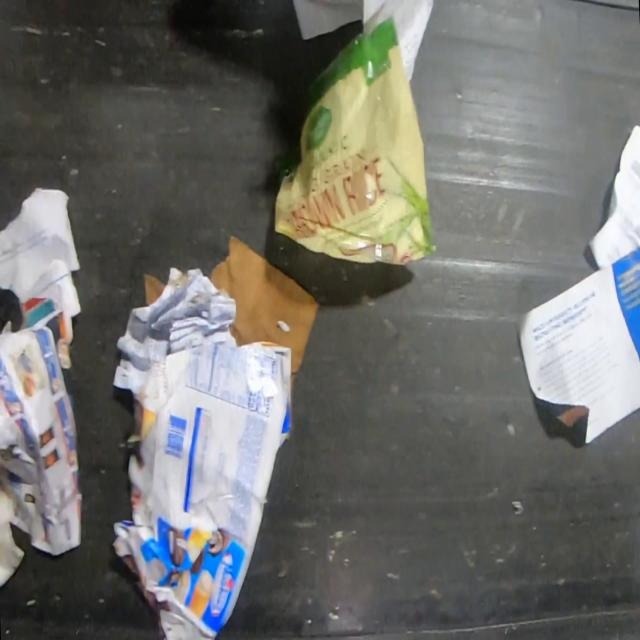cardboard: (114, 339, 292, 640), (211, 237, 320, 374)
soft_plastic: (275, 17, 441, 269)
